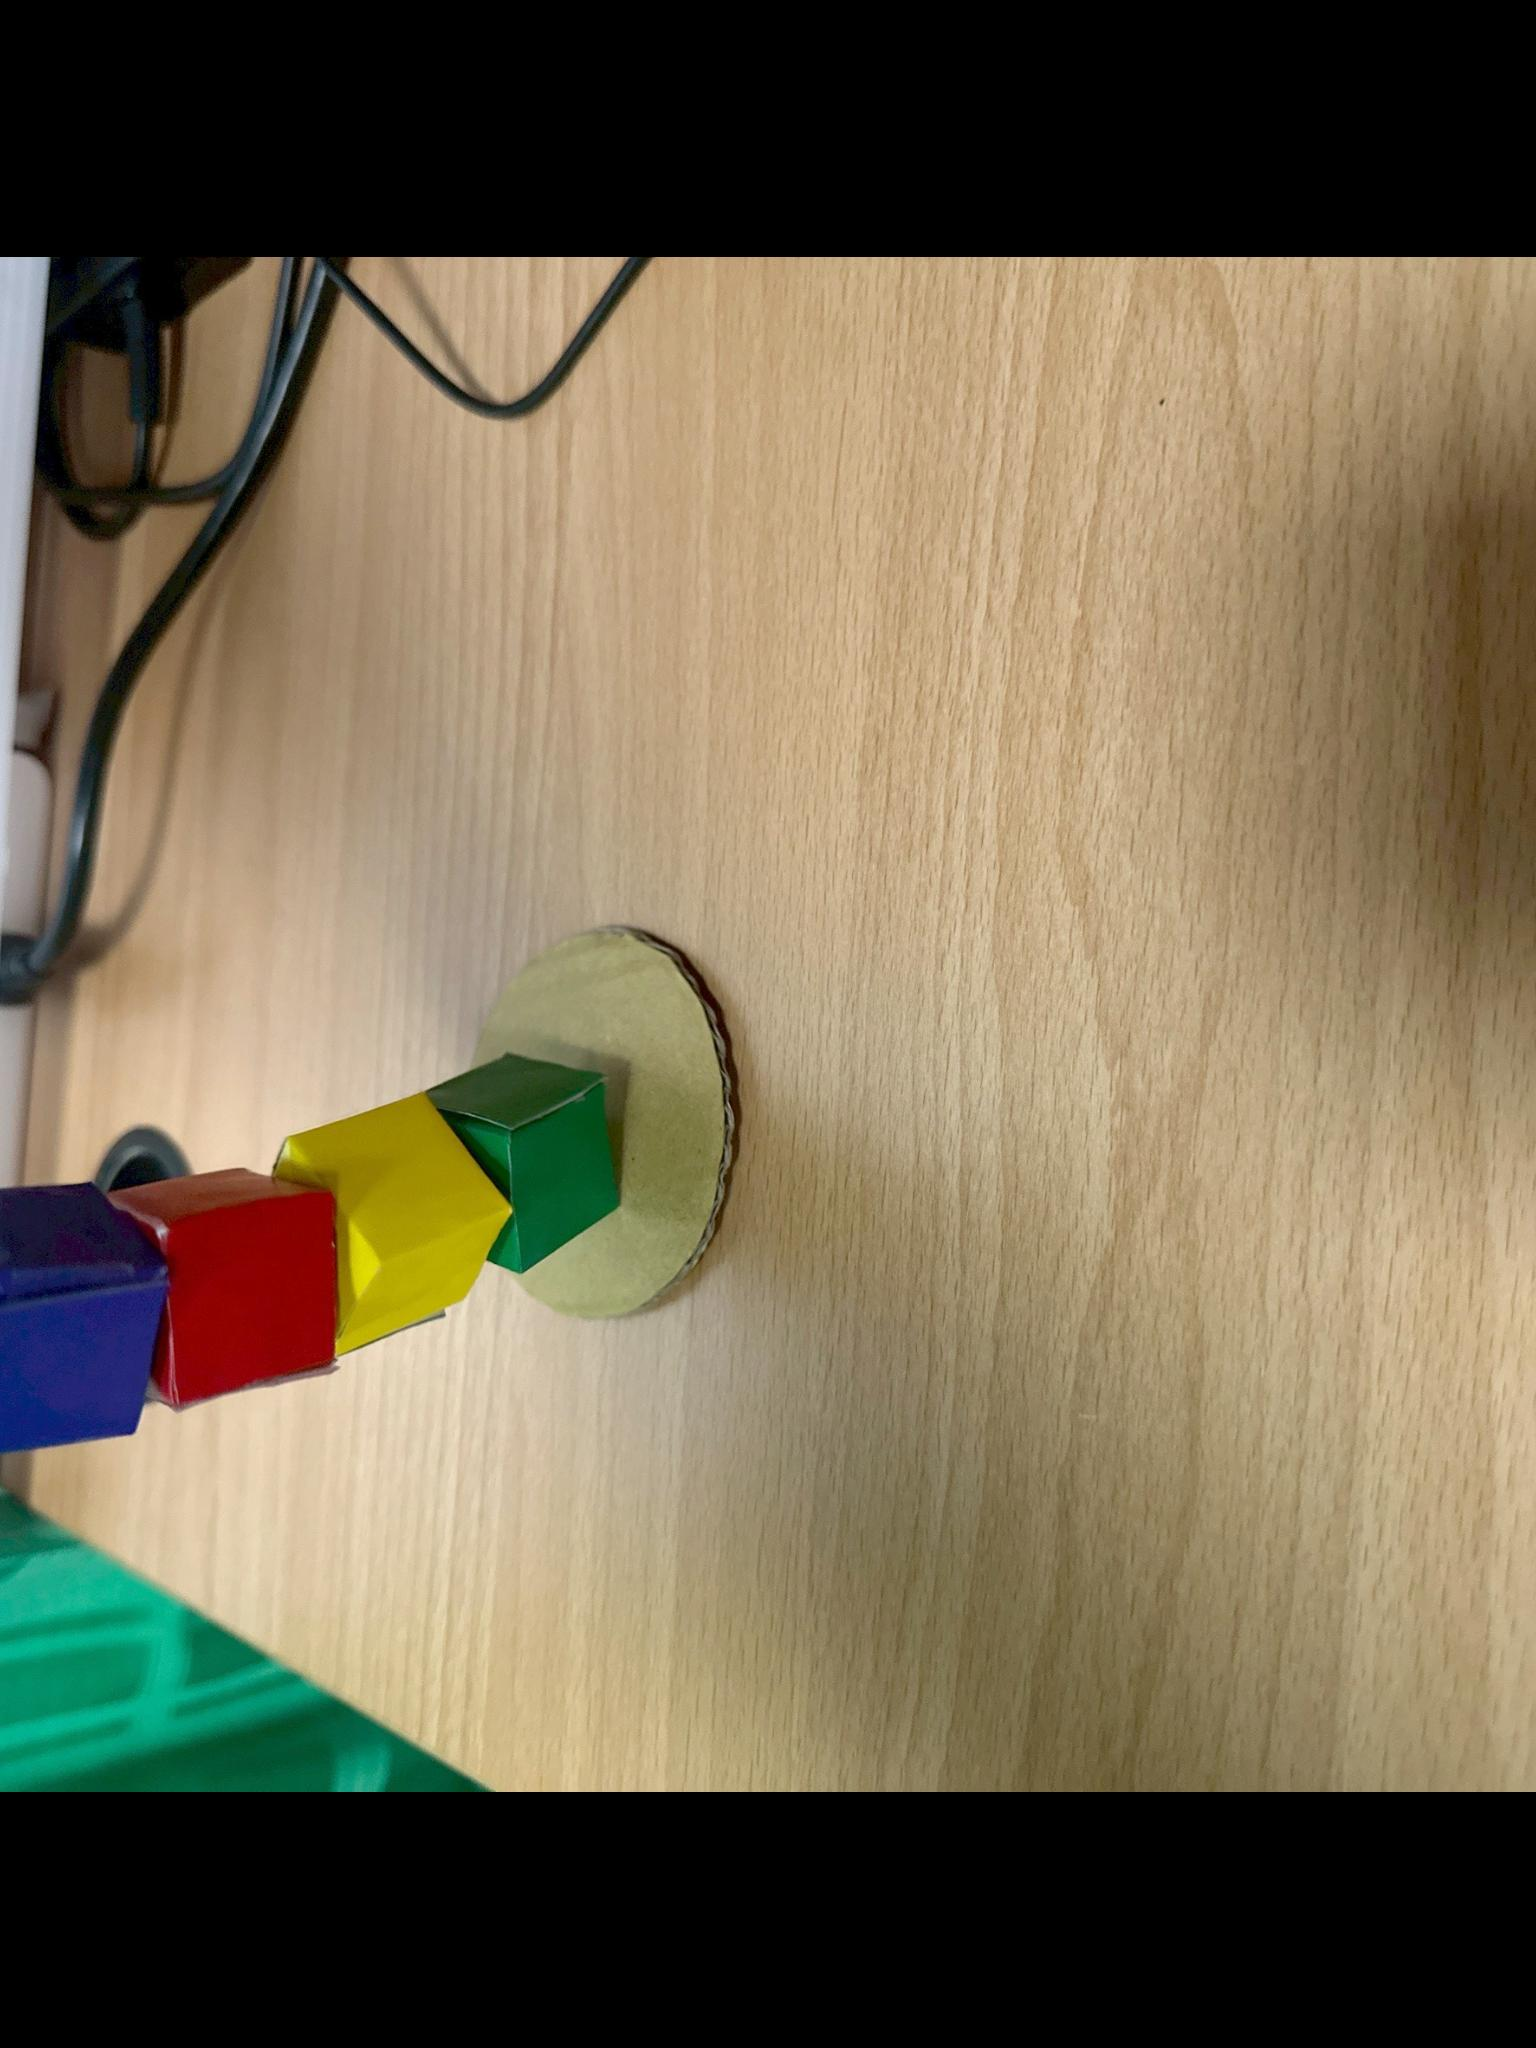base: (474, 924, 734, 1317)
